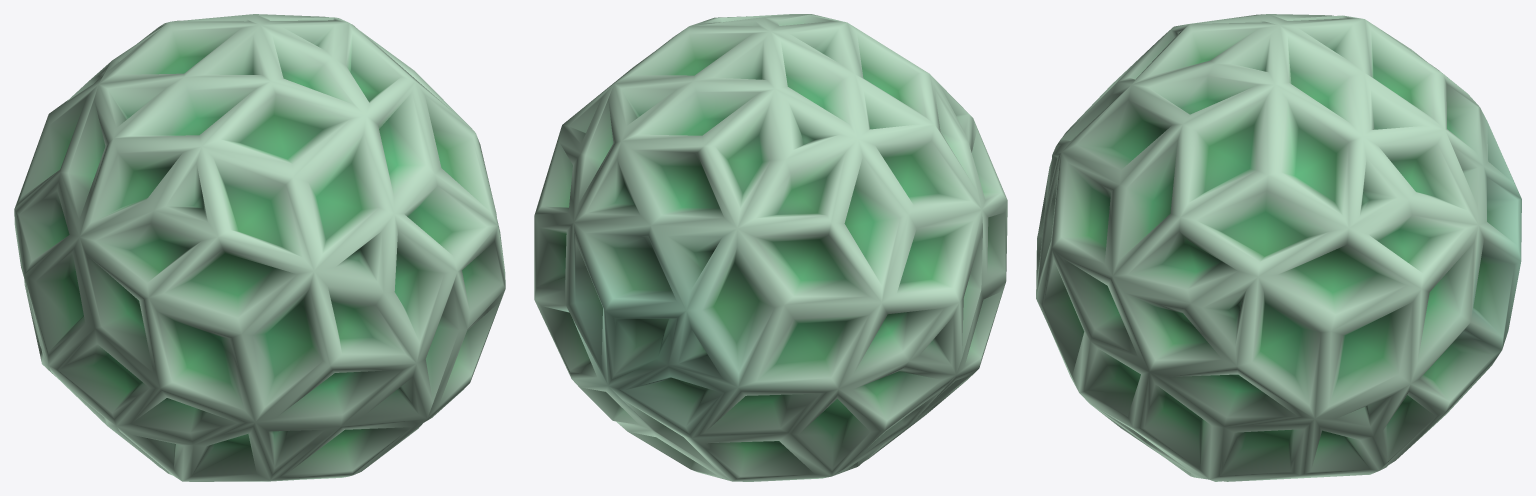
File: microscopic-pollen-spores-wrinkled-pollen_v1.glb
3 renders of one model, left to right at view 1: azimuth 30°, elevation 25°; view 2: azimuth 150°, elevation 25°; view 3: azimuth 270°, elevation 25°, orthographic. The views are drawn at different scales.
Parts seen in each view (by area): view 1: Wrinkled Pollen; view 2: Wrinkled Pollen; view 3: Wrinkled Pollen.
Boxes of the visible parts, x1,y1,x2,y2 form: Wrinkled Pollen: (14,14,505,481); Wrinkled Pollen: (534,14,1007,481); Wrinkled Pollen: (1036,14,1521,481).
Size of the model in its own units: 0.3 by 0.2998 by 0.2956.
